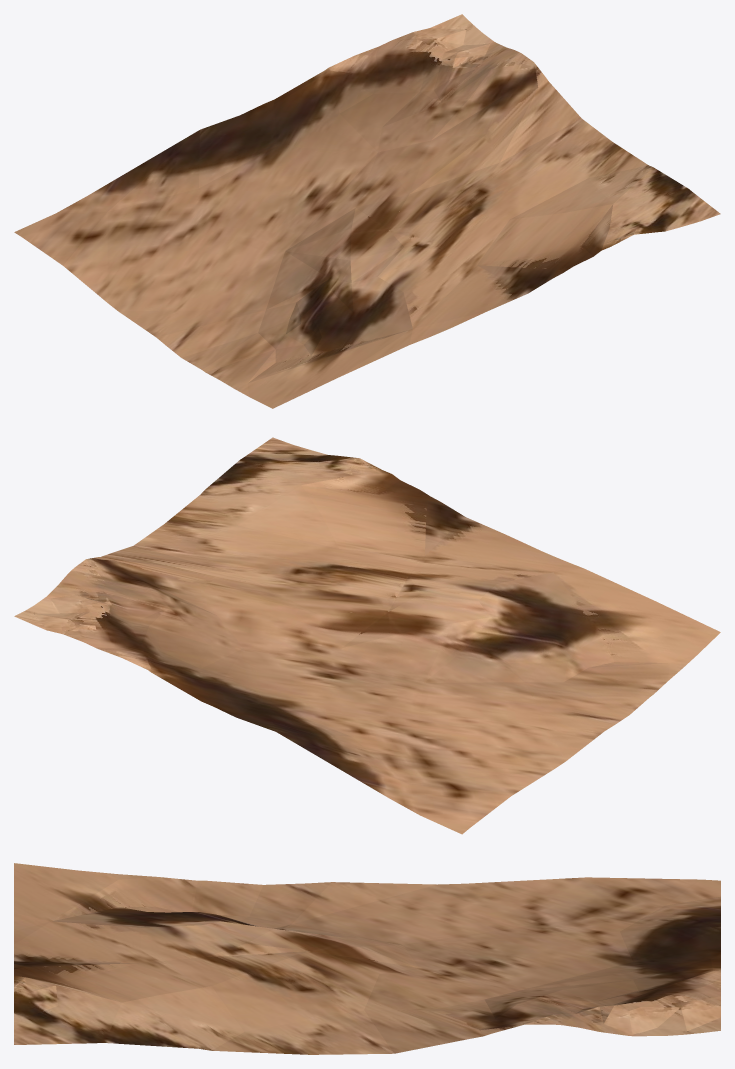
The picture shows the model from 3 angles, top to bottom: view 1: azimuth 30°, elevation 25°; view 2: azimuth 150°, elevation 25°; view 3: azimuth 270°, elevation 25°; orthographic projection. The views are drawn at different scales.
Bounding box in the file's own units: 1.04 × 0.2593 × 1.04.
Materials: 2 (2 with a texture image).
